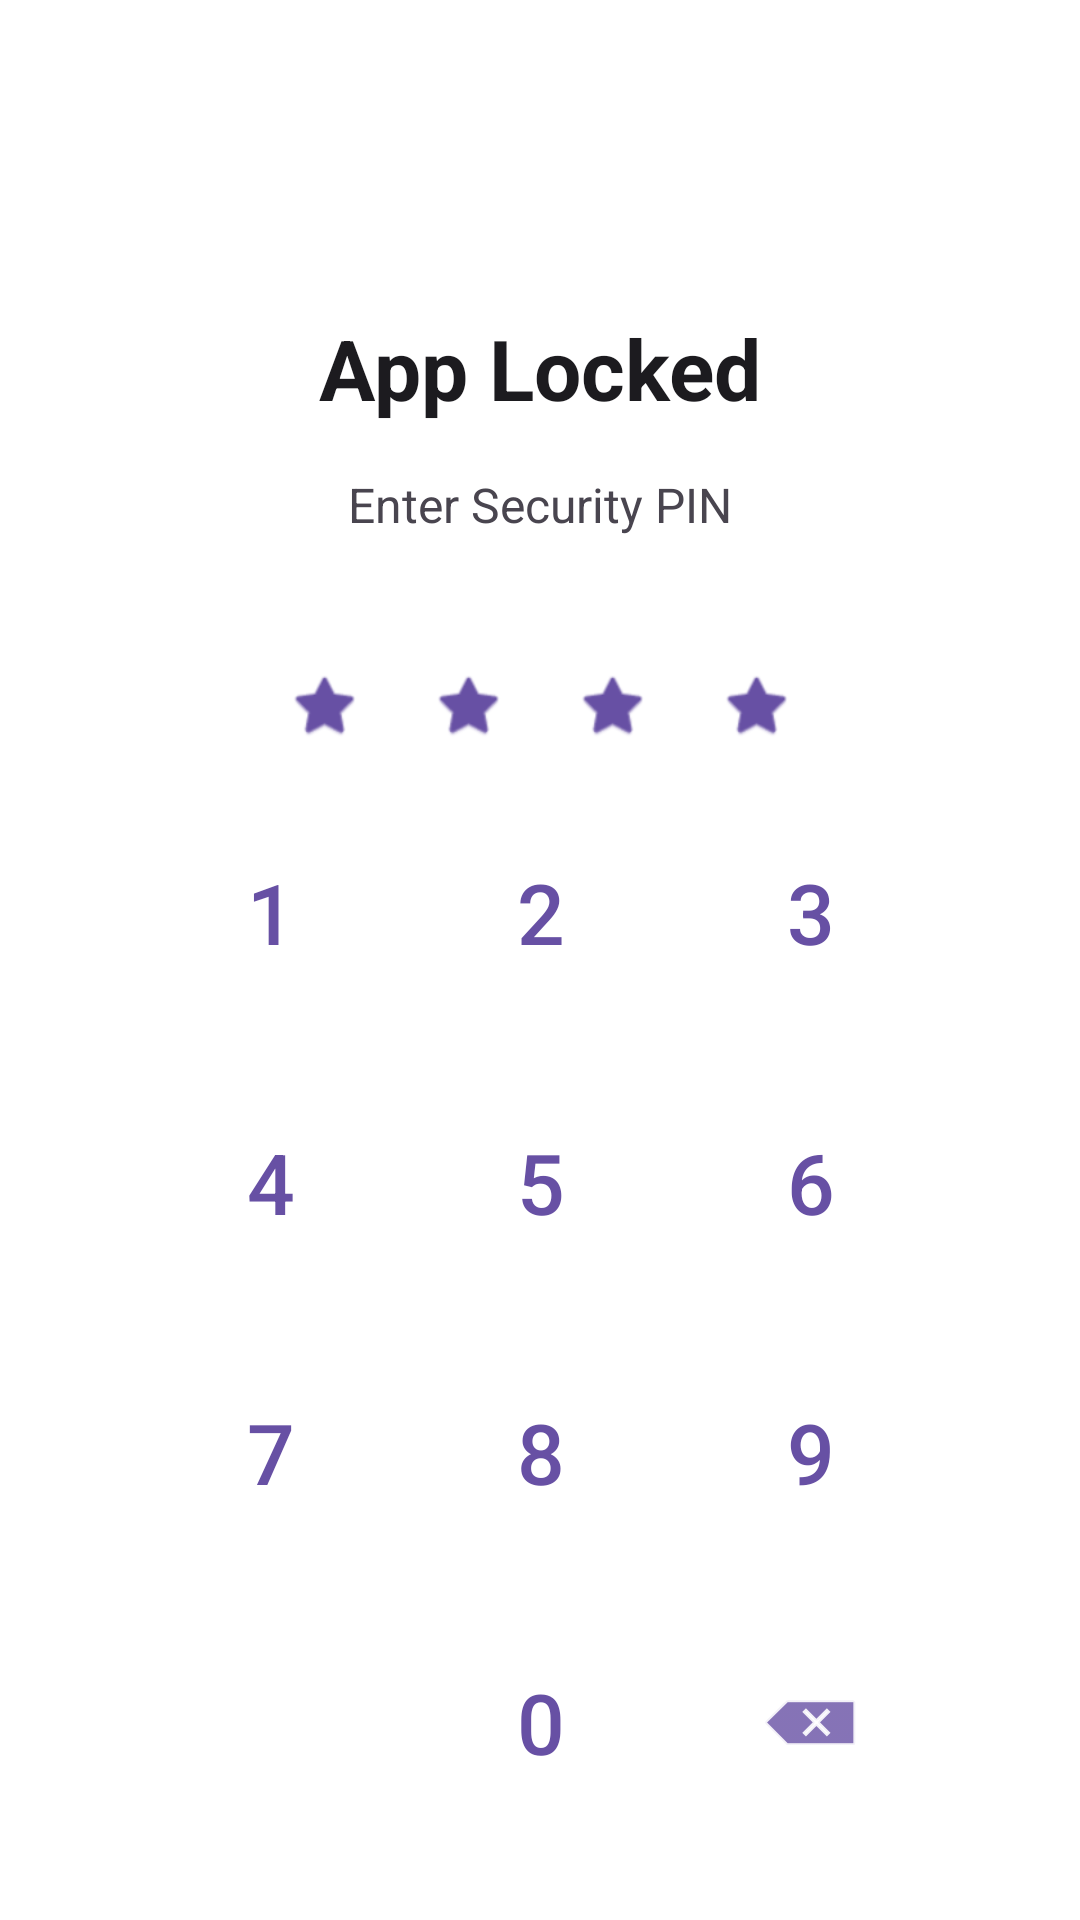

Where to tap for icons on this 1080w x 1920h app screen, as (x=x, y=y):
Delete Digit: (x=810, y=1723)
PIN Digit 1: (x=325, y=705)
PIN Digit 2: (x=469, y=705)
PIN Digit 3: (x=613, y=705)
PIN Digit 4: (x=757, y=705)
